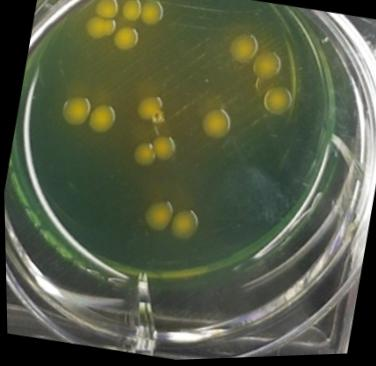vharveyi: (195, 103, 236, 146), (259, 80, 297, 122), (167, 206, 204, 247), (131, 90, 169, 128), (140, 195, 177, 234), (83, 99, 120, 137), (57, 91, 93, 129), (225, 28, 261, 65), (249, 47, 285, 84), (147, 131, 181, 166), (82, 12, 117, 41), (109, 23, 140, 54), (136, 0, 167, 28), (130, 137, 159, 166), (119, 0, 144, 25), (93, 0, 120, 21)
